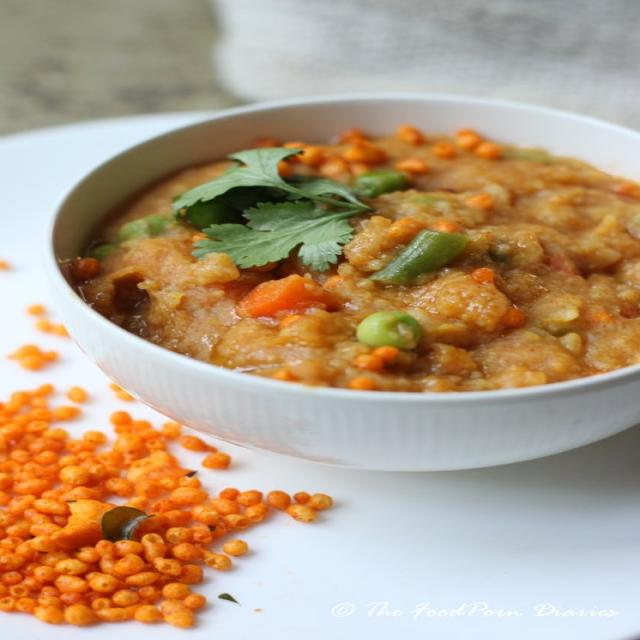bisibele bath: (0, 74, 640, 483)
